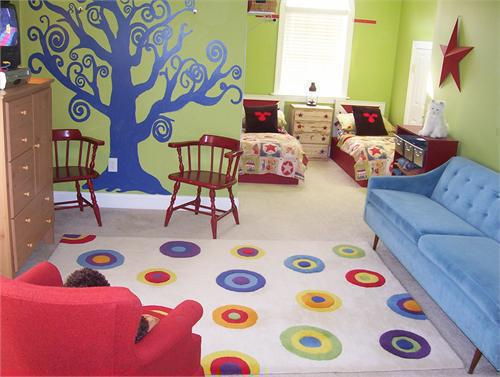Armario: (7, 75, 54, 271)
Cama: (246, 98, 308, 188), (336, 96, 395, 179)
Ventana: (277, 3, 345, 94)
